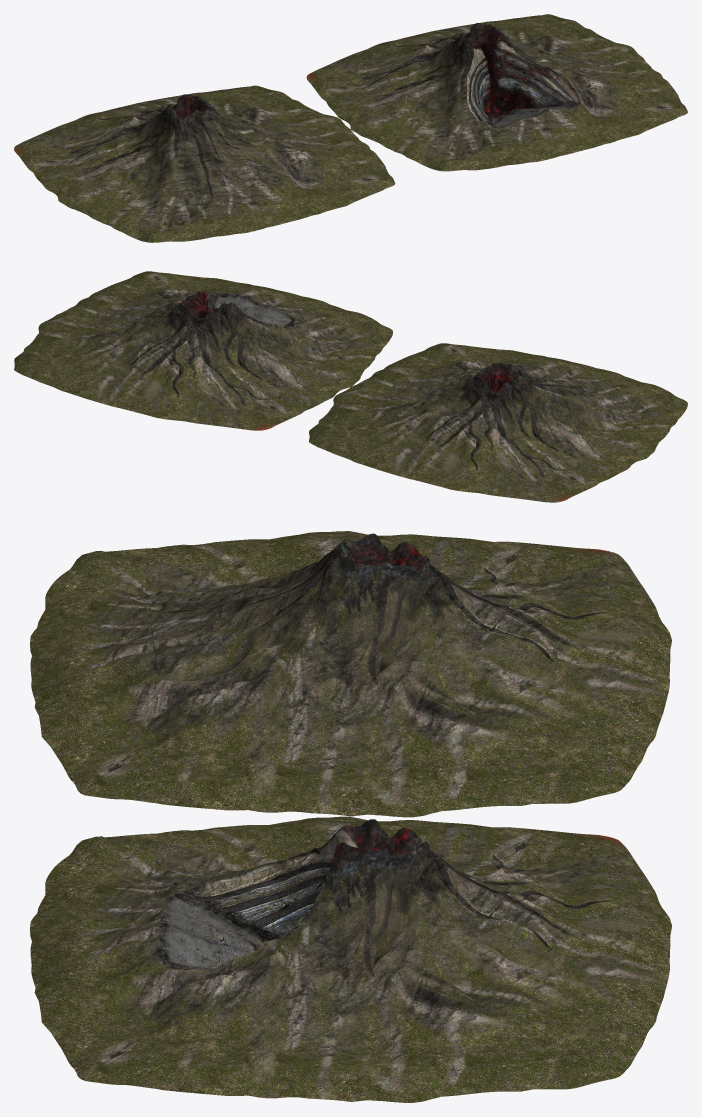
File: 4volcano.glb
The picture shows the model from 3 angles, top to bottom: view 1: azimuth 30°, elevation 25°; view 2: azimuth 150°, elevation 25°; view 3: azimuth 270°, elevation 25°; orthographic projection. The views are drawn at different scales.
Parts seen in each view (by area): view 1: cone_volcano_structure, cone_volcano; view 2: cone_volcano, cone_volcano_structure; view 3: cone_volcano_structure, cone_volcano.
Boxes of the visible parts, x1,y1,x2,y2 form: cone_volcano_structure: (306,14,687,171); cone_volcano: (14,85,395,242); cone_volcano: (309,343,687,502); cone_volcano_structure: (14,271,392,430); cone_volcano_structure: (30,816,671,1102); cone_volcano: (30,531,671,817).
Bounding box in the file's own units: 159 × 24.88 × 75.44.
Materials: 1 (1 with a texture image).
